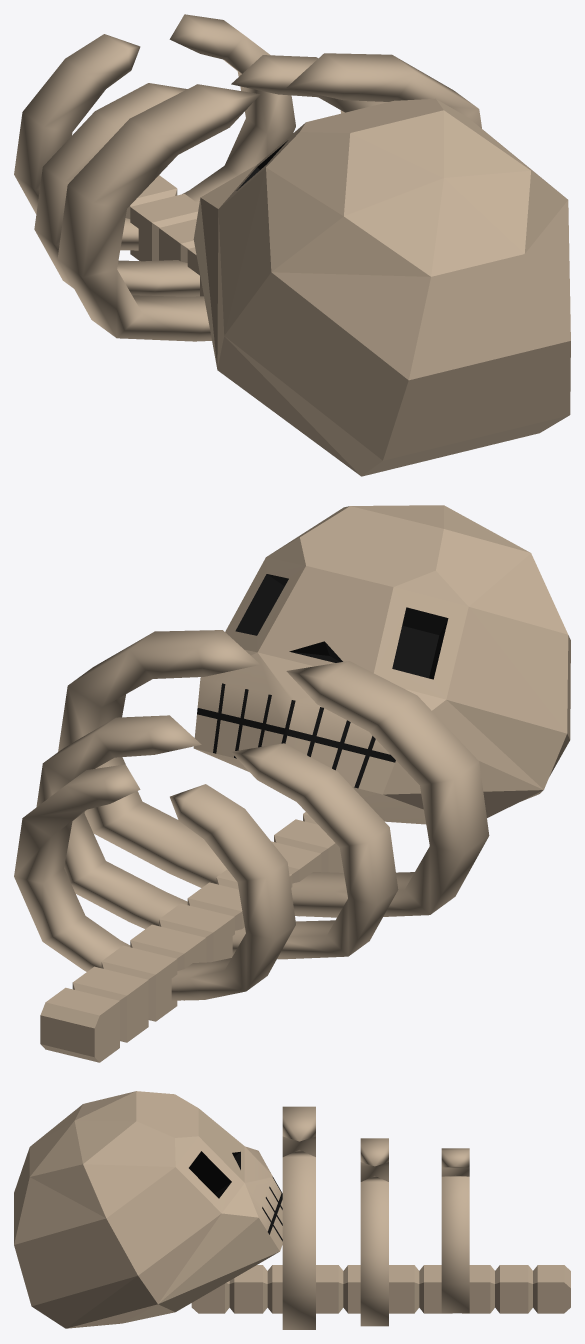
Rendered from Huesos.fbx.
3 views of the same model, one above another, from view 1: azimuth 30°, elevation 25°; view 2: azimuth 150°, elevation 25°; view 3: azimuth 270°, elevation 25° (orthographic). The views are drawn at different scales.
Visible parts, largest first — view 1: Huesos; view 2: Huesos; view 3: Huesos.
Boxes of the visible parts, x1,y1,x2,y2 form: Huesos: (14,14,570,476); Huesos: (14,505,570,1062); Huesos: (14,1091,570,1329).
Bounding box in the file's own units: 0.5498 × 0.3937 × 0.9893.
